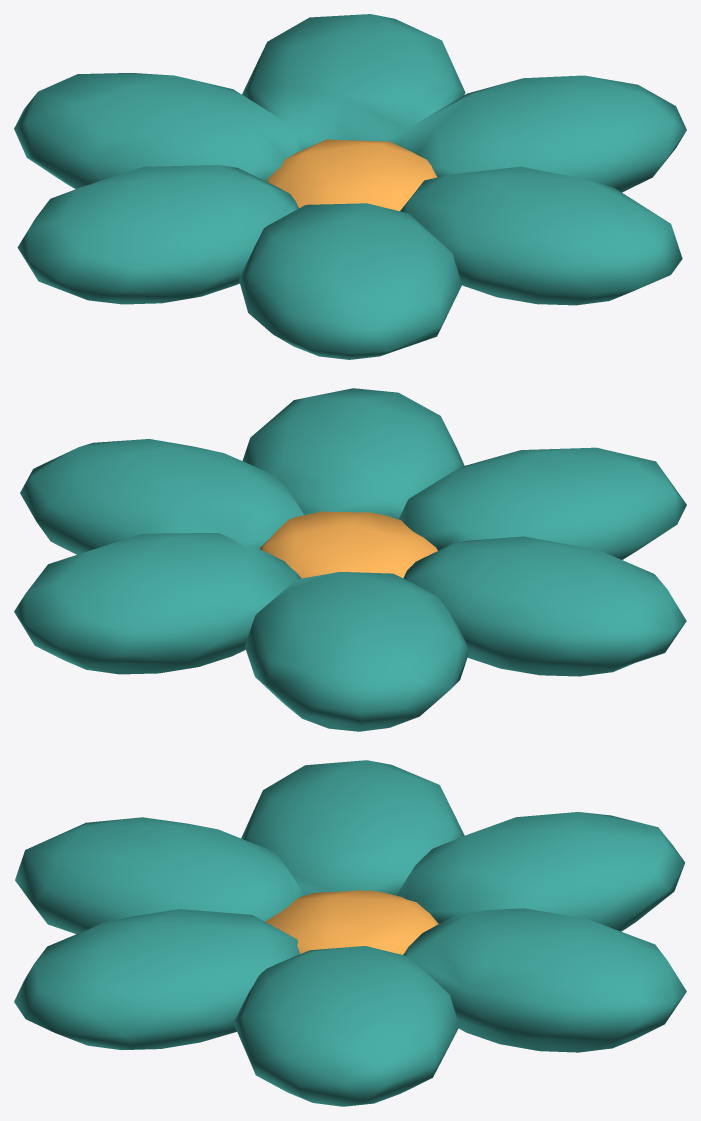
Rendered from flowers2-compressed.glb.
3 renders of one model, top to bottom at view 1: azimuth 30°, elevation 25°; view 2: azimuth 150°, elevation 25°; view 3: azimuth 270°, elevation 25°, orthographic.
Parts seen in each view (by area): view 1: flowers2; view 2: flowers2; view 3: flowers2.
Part boxes in pixels (x1=…): flowers2: x1=14, y1=14, x2=686, y2=359; flowers2: x1=14, y1=388, x2=686, y2=731; flowers2: x1=14, y1=760, x2=686, y2=1106.
Bounding box in the file's own units: 1.46 × 0.18 × 1.31.
